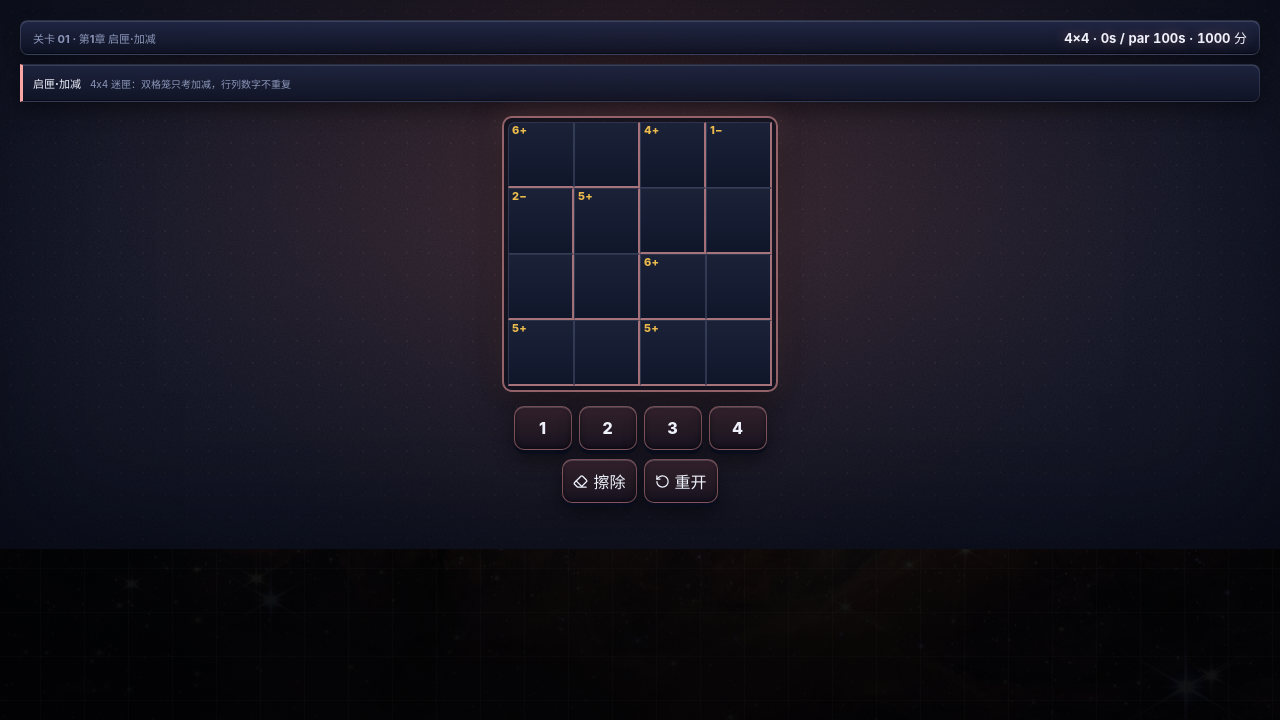
it: calc casket game › flags row conflicts as mistakes and announces the clash
Click the 1st button with class "casket-cell".
click(541, 155)  # box [508,122,574,188]
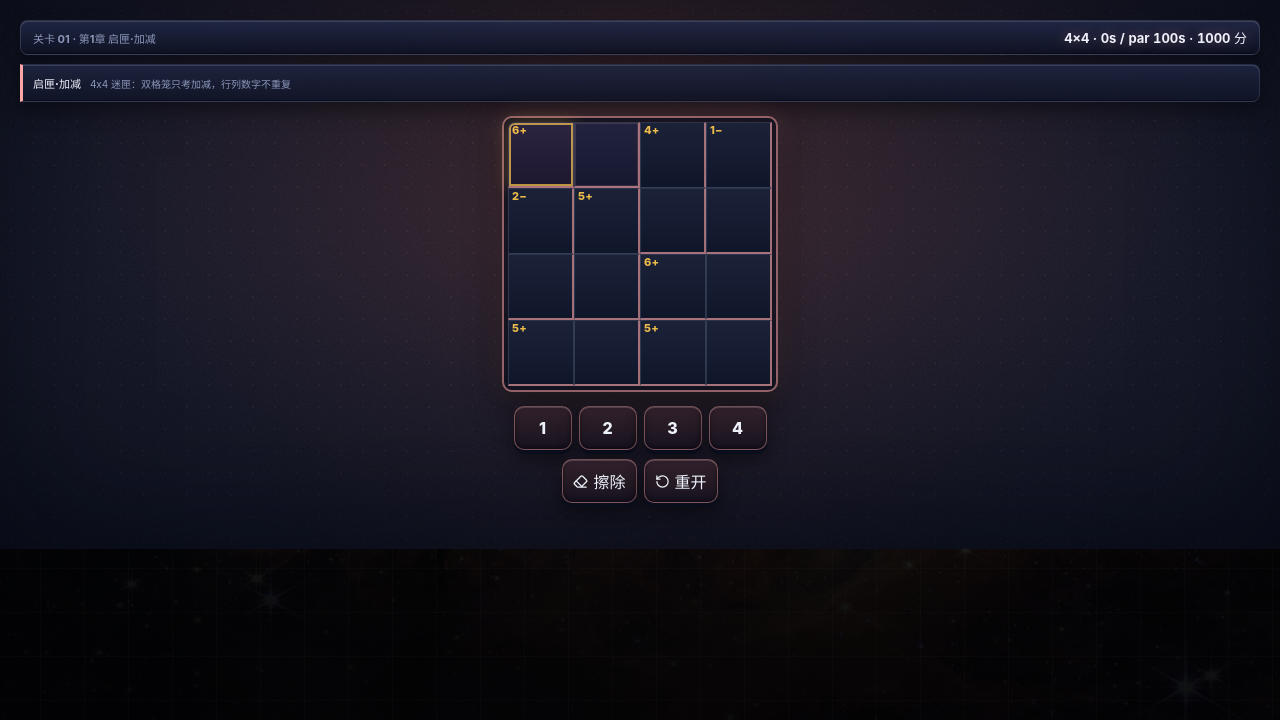
Click the button with class "casket-key" showing "3".
click(672, 428)  # box [644,406,702,450]
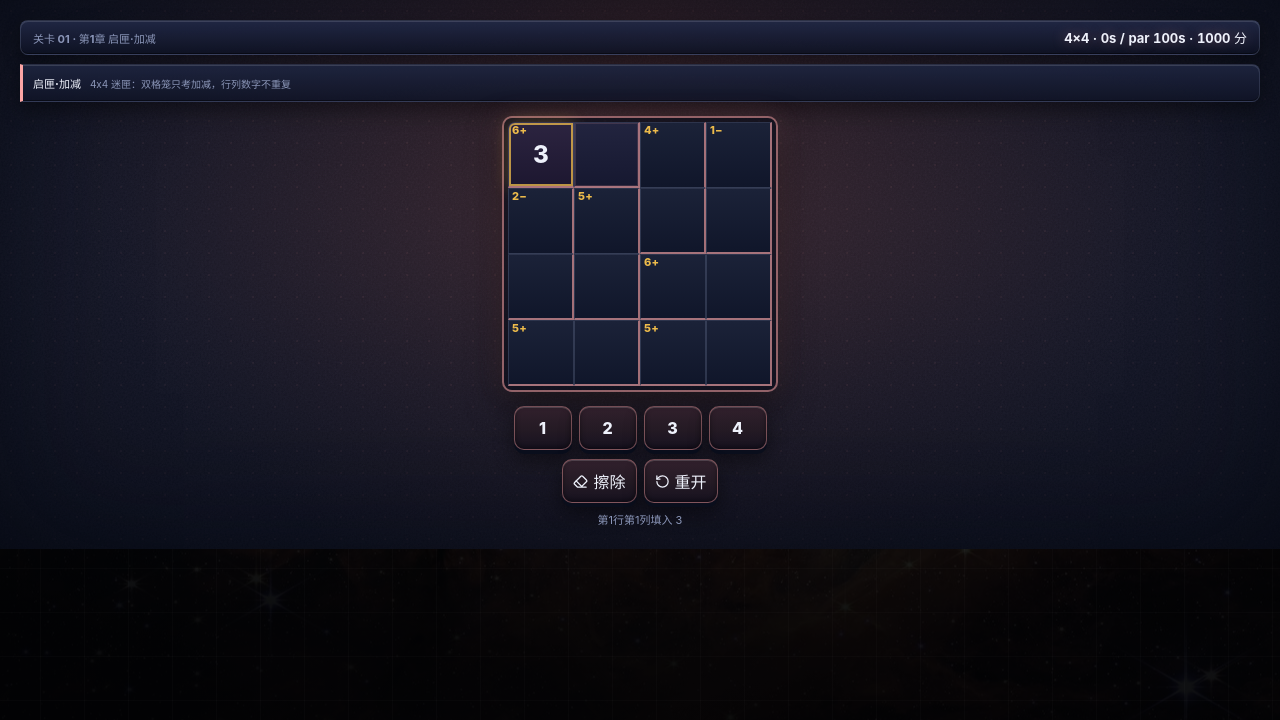
Click the 2nd button with class "casket-cell".
click(607, 155)  # box [574,122,640,188]
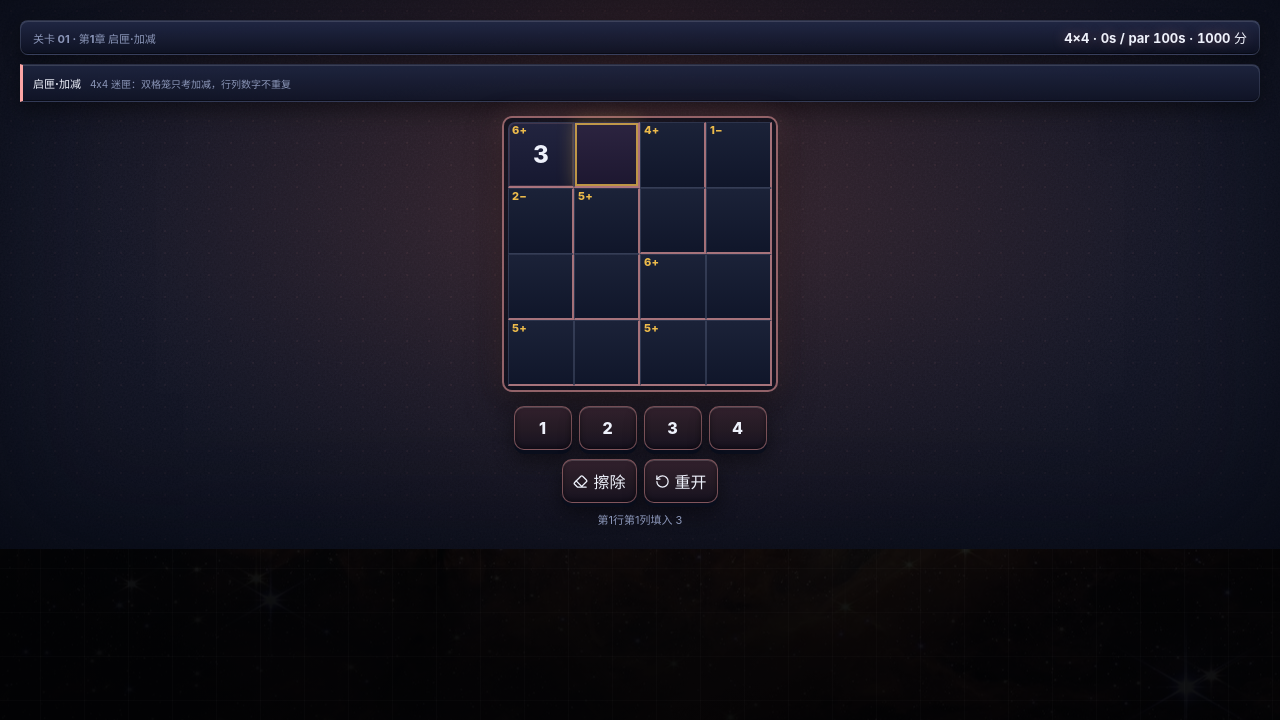
Click the button with class "casket-key" showing "3".
click(672, 428)  # box [644,406,702,450]
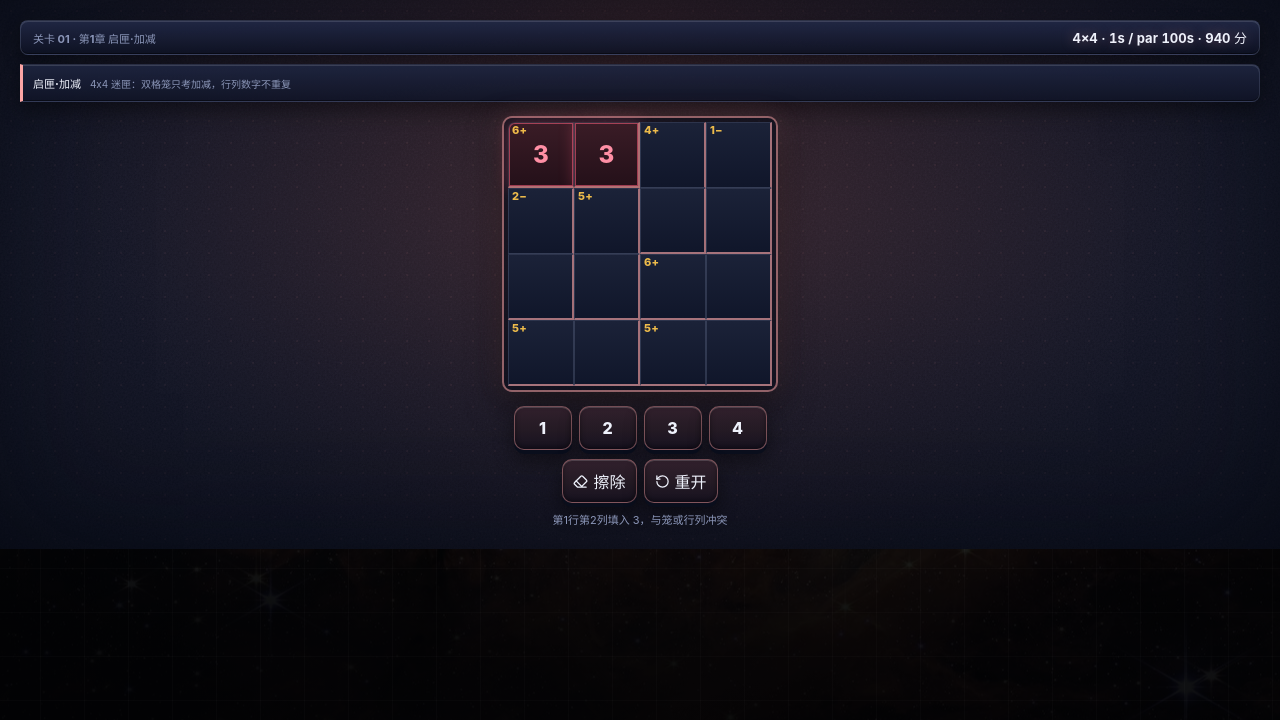
Expected: the text with class "casket-live" shows "与笼或行列冲突", [552,513,728,527]
